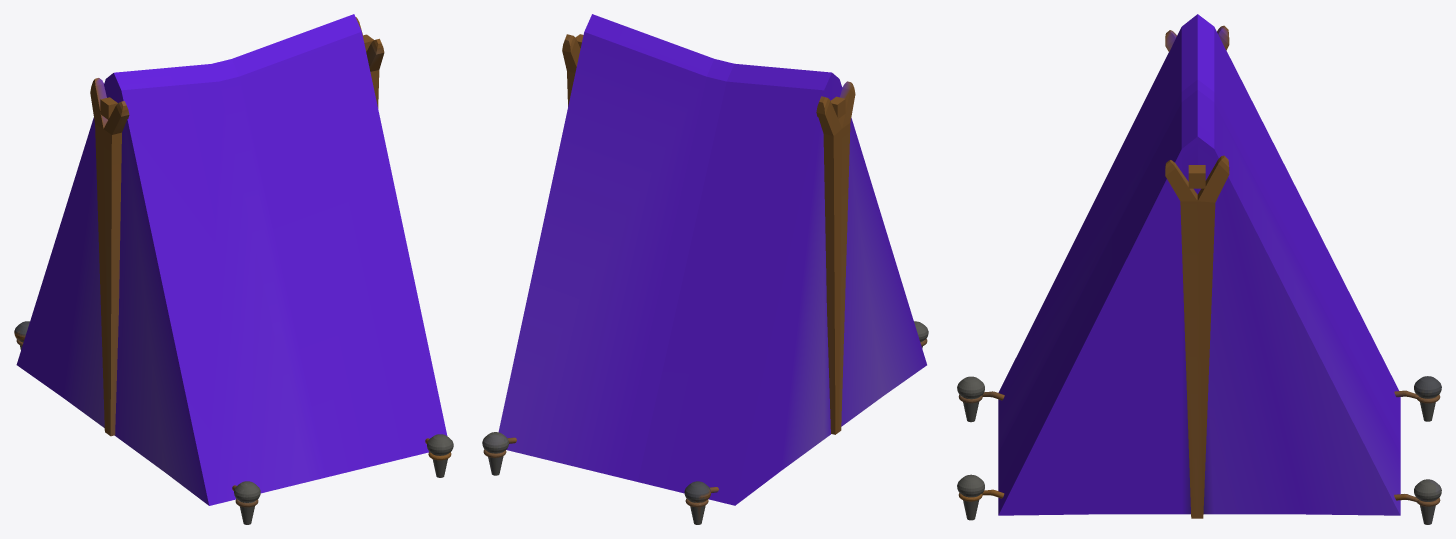
File: CabanaRoxa.fbx
The picture shows the model from 3 angles, left to right: view 1: azimuth 30°, elevation 25°; view 2: azimuth 150°, elevation 25°; view 3: azimuth 270°, elevation 25°; orthographic projection. The views are drawn at different scales.
Parts seen in each view (by area): view 1: Cabana Amarela; view 2: Cabana Amarela; view 3: Cabana Amarela.
Boxes of the visible parts, x1=… form: Cabana Amarela: x1=14, y1=14, x2=453, y2=524; Cabana Amarela: x1=482, y1=14, x2=928, y2=524; Cabana Amarela: x1=957, y1=14, x2=1441, y2=524.
Bounding box in the file's own units: 302 × 406 × 454.
